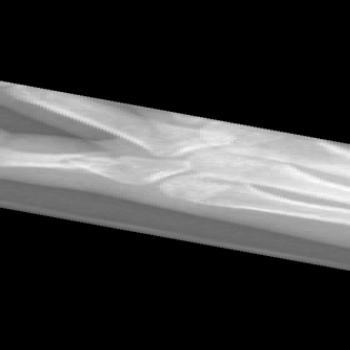Fracture: (38, 149, 127, 174)
